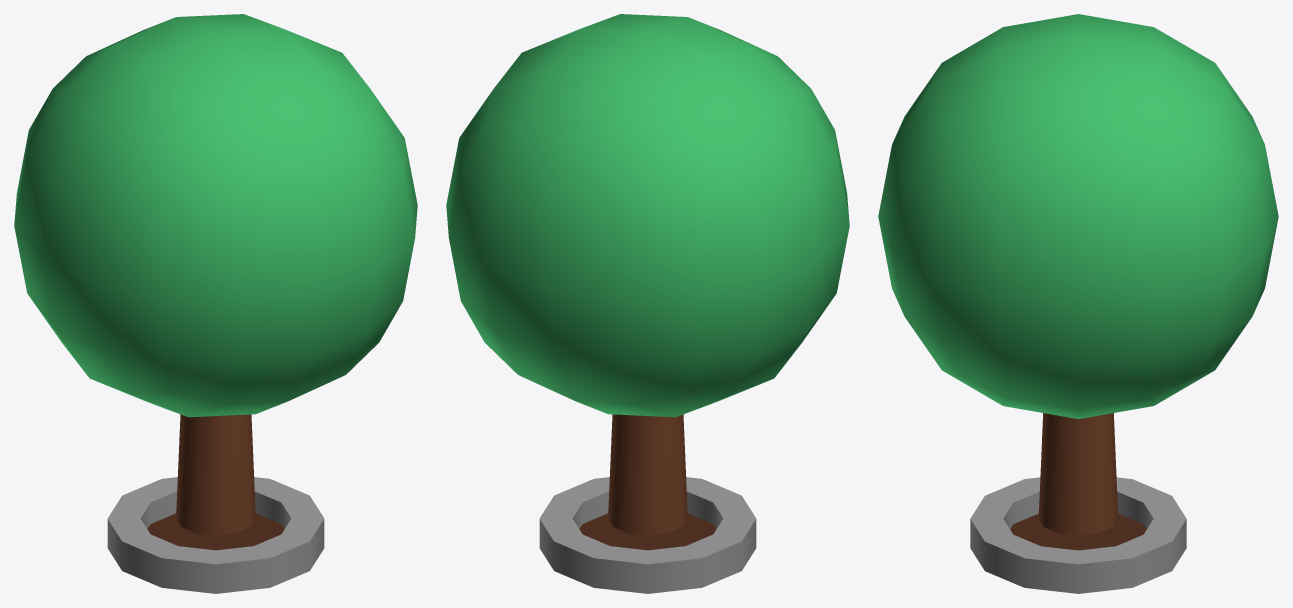
File: Tree_1.fbx
3 renders of one model, left to right at view 1: azimuth 30°, elevation 25°; view 2: azimuth 150°, elevation 25°; view 3: azimuth 270°, elevation 25°, orthographic.
Visible parts, largest first — view 1: Cylinder; view 2: Cylinder; view 3: Cylinder.
Boxes of the visible parts, bbox=[...] form: Cylinder: bbox=[14, 14, 417, 593]; Cylinder: bbox=[446, 14, 849, 593]; Cylinder: bbox=[878, 14, 1278, 593].
Bounding box in the file's own units: 696 × 984 × 696.
